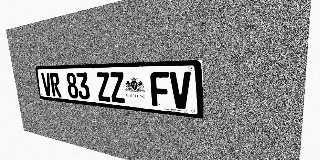3: (76, 72, 90, 100)
8: (66, 72, 79, 99)
F: (150, 72, 170, 108)
R: (49, 73, 61, 97)
V: (169, 71, 192, 110), (41, 73, 52, 96)
Z: (109, 72, 126, 103), (96, 72, 111, 102)
